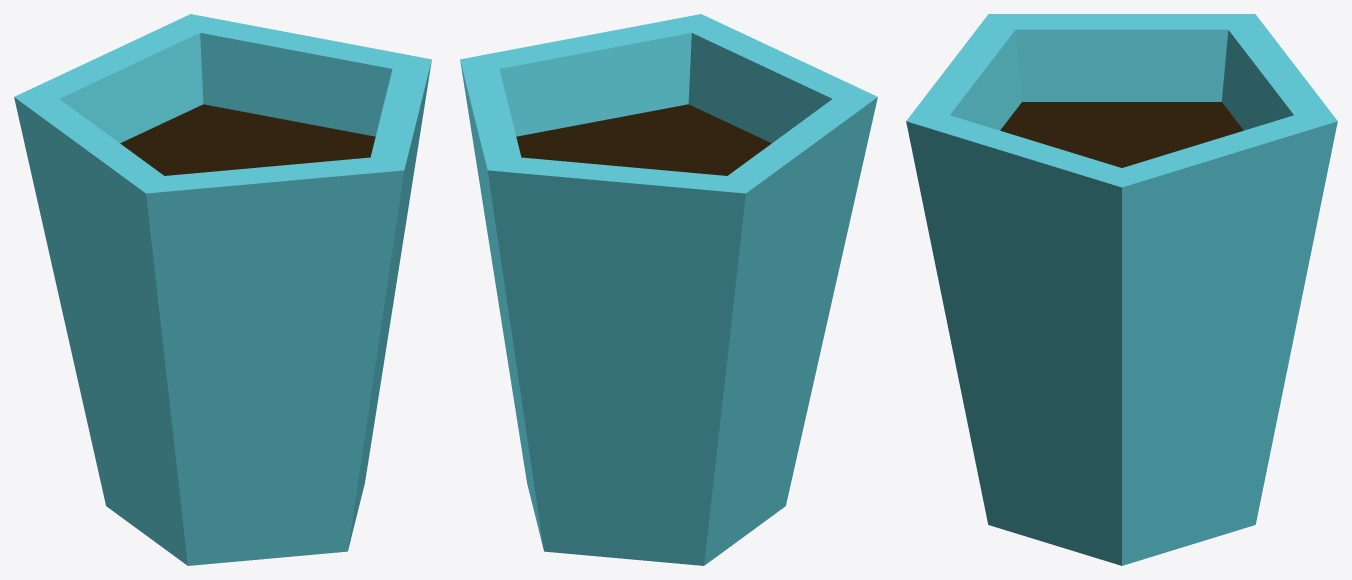
The model's file is cup_full_3.fbx.
The picture shows the model from 3 angles, left to right: view 1: azimuth 30°, elevation 25°; view 2: azimuth 150°, elevation 25°; view 3: azimuth 270°, elevation 25°; orthographic projection.
Parts seen in each view (by area): view 1: cup_full_3; view 2: cup_full_3; view 3: cup_full_3.
Boxes of the visible parts, x1,y1,x2,y2 form: cup_full_3: (14, 14, 431, 565); cup_full_3: (460, 14, 877, 565); cup_full_3: (906, 14, 1337, 565).
Bounding box in the file's own units: 0.6046 × 0.6685 × 0.6358.
